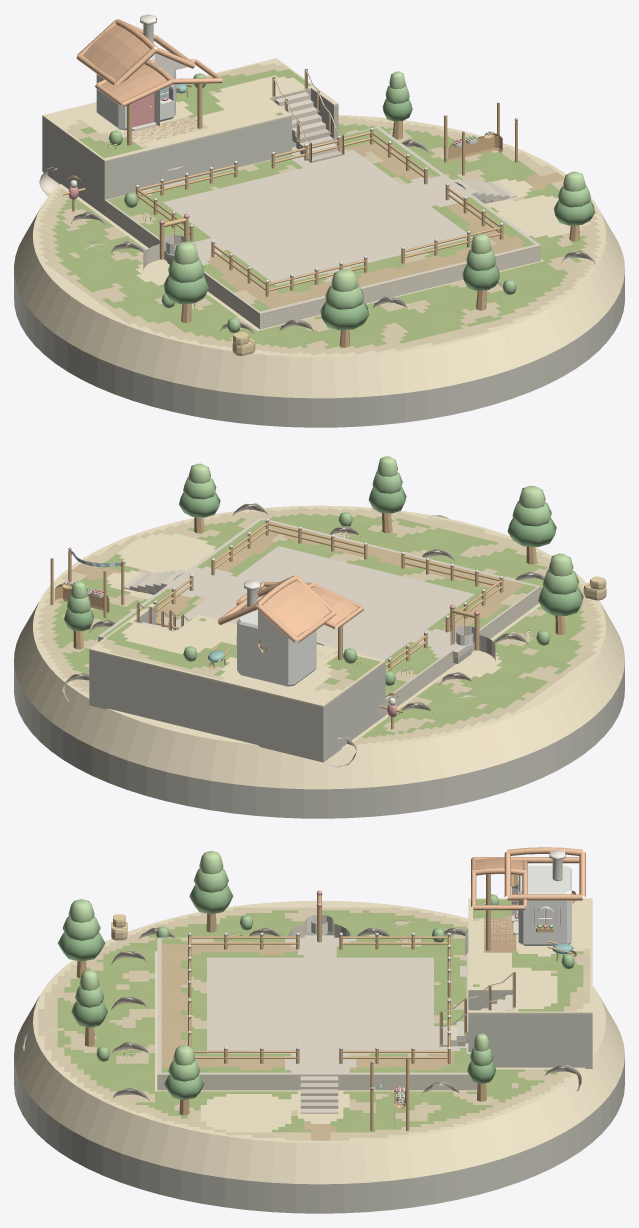
File: champs.glb
3 renders of one model, top to bottom at view 1: azimuth 30°, elevation 25°; view 2: azimuth 150°, elevation 25°; view 3: azimuth 270°, elevation 25°, orthographic.
Parts seen in each view (by area): view 1: champs; view 2: champs; view 3: champs.
Boxes of the visible parts, x1,y1,x2,y2 form: champs: (14,14,624,427); champs: (14,456,624,818); champs: (14,847,624,1213).
Bounding box in the file's own units: 22.6 × 8.45 × 22.6.
